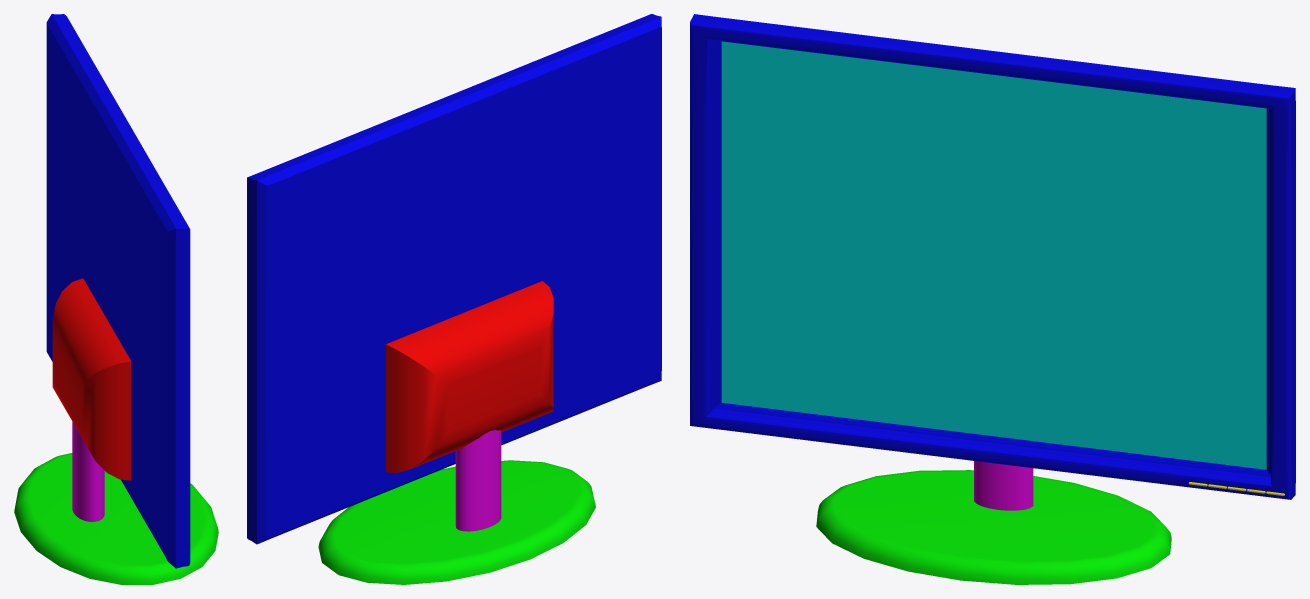
The model's file is MonitorTexture01.fbx.
3 renders of one model, left to right at view 1: azimuth 30°, elevation 25°; view 2: azimuth 150°, elevation 25°; view 3: azimuth 270°, elevation 25°, orthographic. The views are drawn at different scales.
Parts seen in each view (by area): view 1: Monitor_Exterior, MonitorBaseGeo, MonitorPowerGeo, MonitorStandGeo; view 2: Monitor_Exterior, MonitorPowerGeo, MonitorBaseGeo, MonitorStandGeo; view 3: Screen, Monitor_Exterior, MonitorBaseGeo, MonitorStandGeo.
Part boxes in pixels (x1,y1,x2,y2): Monitor_Exterior: (46,14,190,568); MonitorBaseGeo: (14,453,218,584); MonitorPowerGeo: (52,278,131,480); MonitorStandGeo: (72,422,104,521); Monitor_Exterior: (247,14,661,544); MonitorPowerGeo: (386,281,553,473); MonitorBaseGeo: (318,460,595,584); MonitorStandGeo: (455,430,501,531); Screen: (721,41,1266,469); Monitor_Exterior: (690,14,1295,499); MonitorBaseGeo: (816,470,1171,584); MonitorStandGeo: (974,461,1033,510).
Size of the model in its own units: 0.731 by 1.57 by 1.79.
